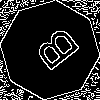B: (25, 25, 82, 79)
